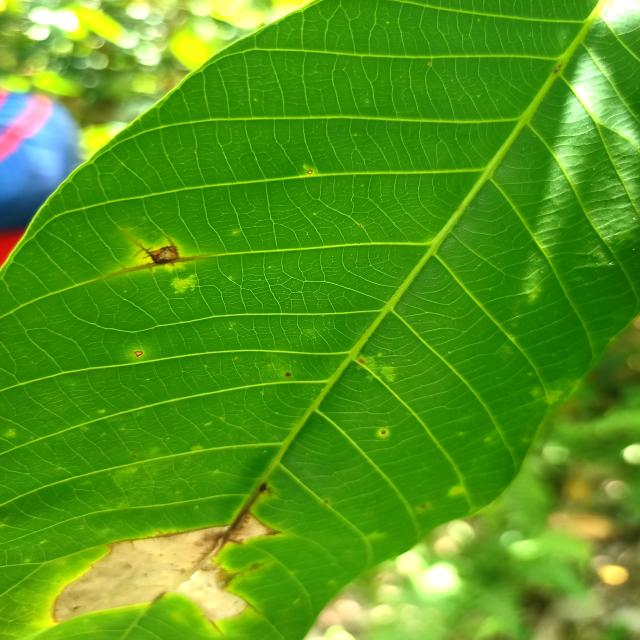Colletotrichum: (135, 350, 144, 357), (285, 372, 291, 376), (381, 430, 386, 434), (308, 170, 312, 174)
Corynespora: (220, 483, 270, 543), (122, 235, 192, 272)
Leaf-Blight: (52, 524, 246, 620), (230, 514, 268, 540)
